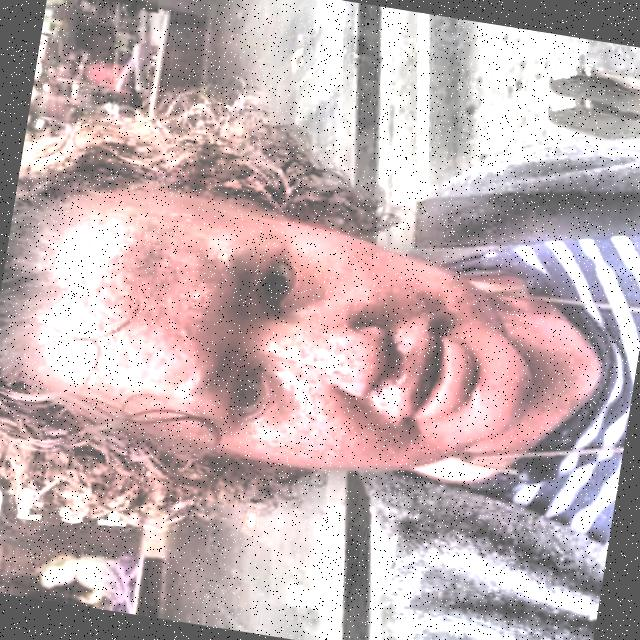neutral: (0, 136, 585, 510)
